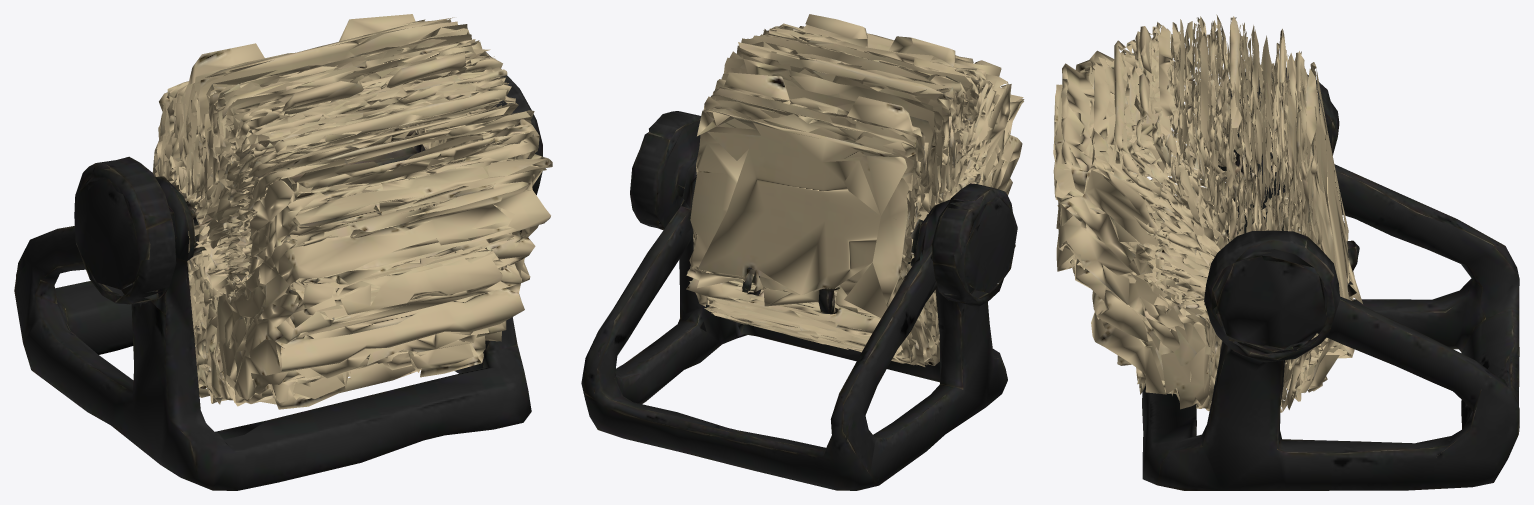
The model's file is rolodex.glb.
3 views of the same model, side by side, from view 1: azimuth 30°, elevation 25°; view 2: azimuth 150°, elevation 25°; view 3: azimuth 270°, elevation 25° (orthographic). The views are drawn at different scales.
Parts seen in each view (by area): view 1: geometry_0; view 2: geometry_0; view 3: geometry_0.
Part boxes in pixels (<box>): geometry_0: <box>14,14,552,490</box>; geometry_0: <box>581,14,1024,490</box>; geometry_0: <box>1053,14,1519,490</box>.
Bounding box in the file's own units: 0.9226 × 0.8168 × 0.9746.
1 material, 1 textured.
